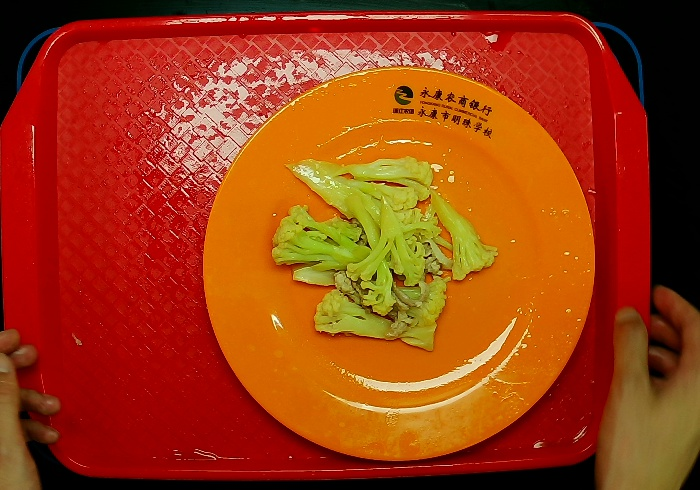YKMZ-Ju_Se_Mian_Pan: (190, 60, 604, 466)
